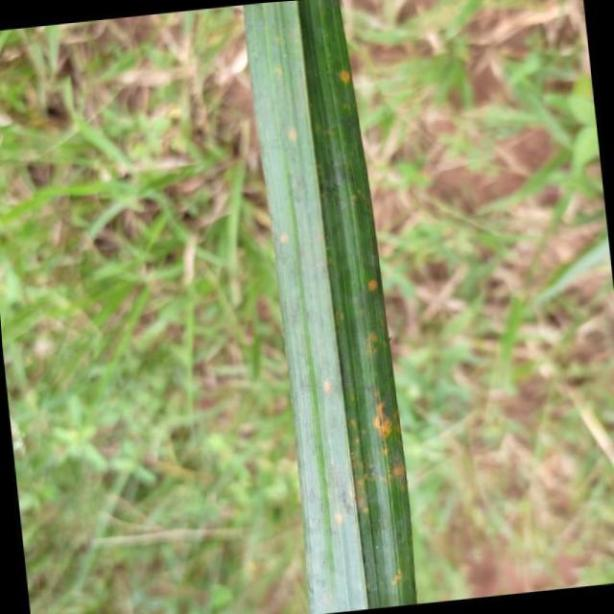Kalium: (240, 0, 420, 614)
